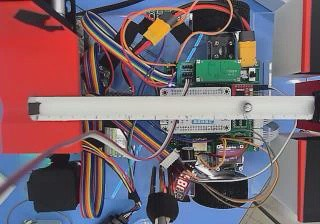ironball: (242, 101, 251, 111)
